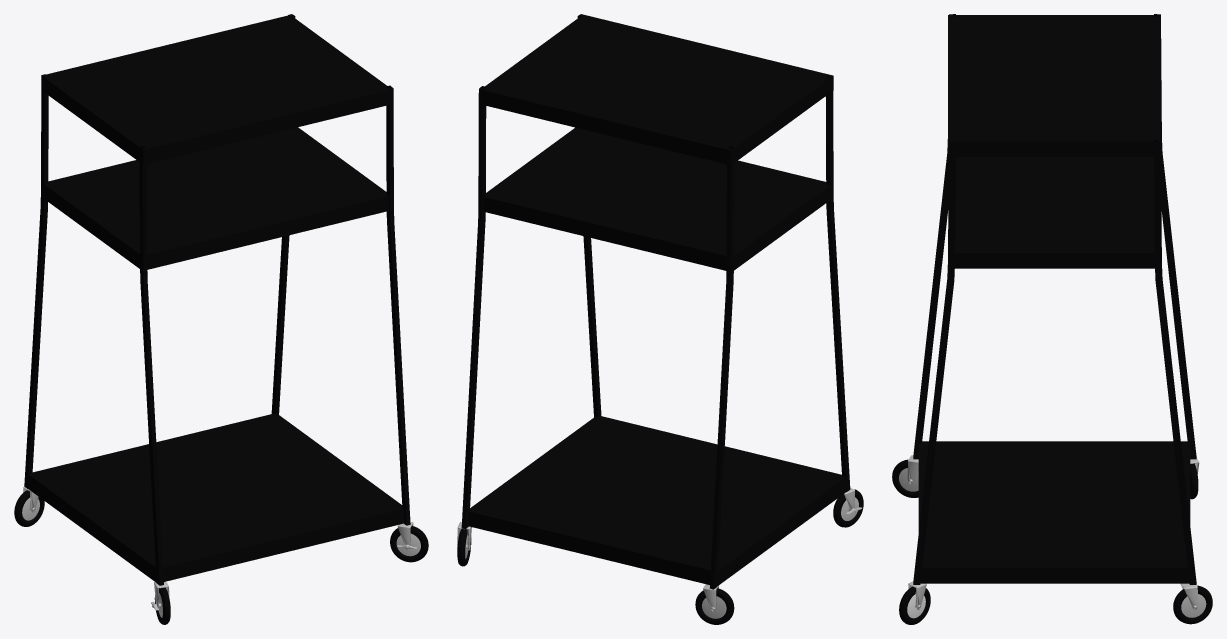
File: tv stand.fbx
The picture shows the model from 3 angles, left to right: view 1: azimuth 30°, elevation 25°; view 2: azimuth 150°, elevation 25°; view 3: azimuth 270°, elevation 25°; orthographic projection. The views are drawn at different scales.
Visible parts, largest first — view 1: Bottom Shelf, Bottom Shelf.002, Bottom Shelf.001, Arm.001, Arm.002, Arm, Arm.003, Wheel.001; view 2: Bottom Shelf, Bottom Shelf.002, Bottom Shelf.001, Arm, Arm.003, Arm.001, Arm.002, Wheel.003; view 3: Bottom Shelf, Bottom Shelf.002, Bottom Shelf.001, Arm.002, Arm.003, Arm, Arm.001, Wheel.002, Wheel.001.
Part boxes in pixels (x1,y1,x2,y2): Bottom Shelf: (27, 413, 403, 582); Bottom Shelf.002: (44, 15, 392, 164); Bottom Shelf.001: (44, 127, 388, 269); Arm.001: (139, 145, 163, 585); Arm.002: (386, 85, 410, 525); Arm: (24, 74, 48, 488); Arm.003: (271, 14, 295, 414); Wheel.001: (390, 526, 428, 562); Bottom Shelf: (468, 415, 846, 585); Bottom Shelf.002: (483, 15, 833, 164); Bottom Shelf.001: (483, 127, 830, 270); Arm: (709, 146, 734, 589); Arm.003: (461, 86, 486, 529); Arm.001: (825, 74, 850, 491); Arm.002: (577, 14, 601, 417); Wheel.003: (695, 588, 734, 624); Bottom Shelf: (918, 441, 1190, 583); Bottom Shelf.002: (948, 15, 1160, 156); Bottom Shelf.001: (955, 157, 1154, 268); Arm.002: (913, 139, 955, 584); Arm.003: (1154, 139, 1196, 584); Arm: (1154, 14, 1196, 459); Arm.001: (913, 14, 955, 459); Wheel.002: (1173, 585, 1212, 624); Wheel.001: (899, 586, 930, 624).
Size of the model in its own units: 44.2 by 70.22 by 42.3.
